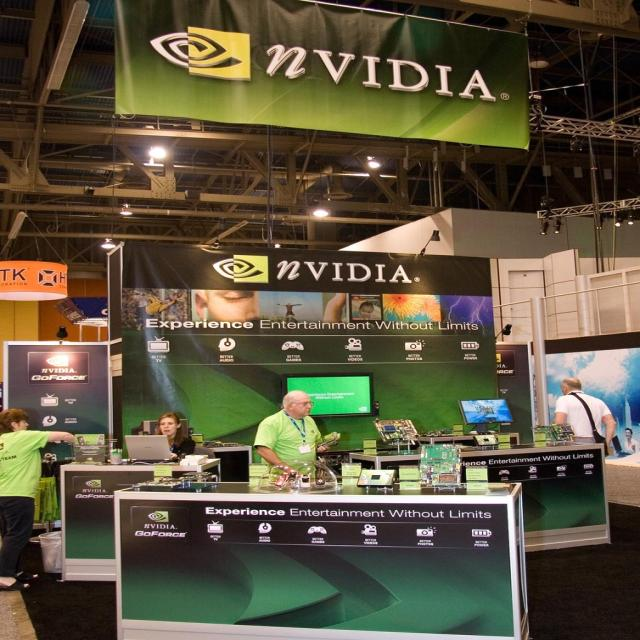nvidia: (151, 27, 253, 81), (211, 255, 270, 285), (146, 511, 173, 524), (85, 480, 107, 489)
